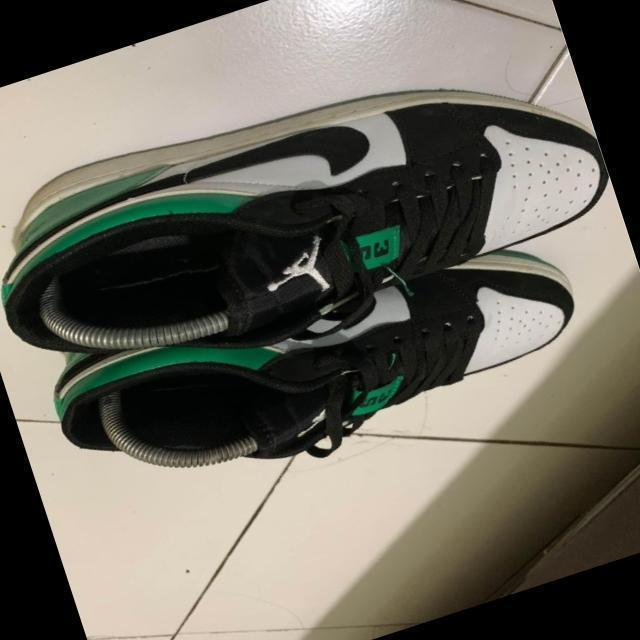nike fake jordan 1: (0, 10, 627, 423), (38, 194, 597, 524)
